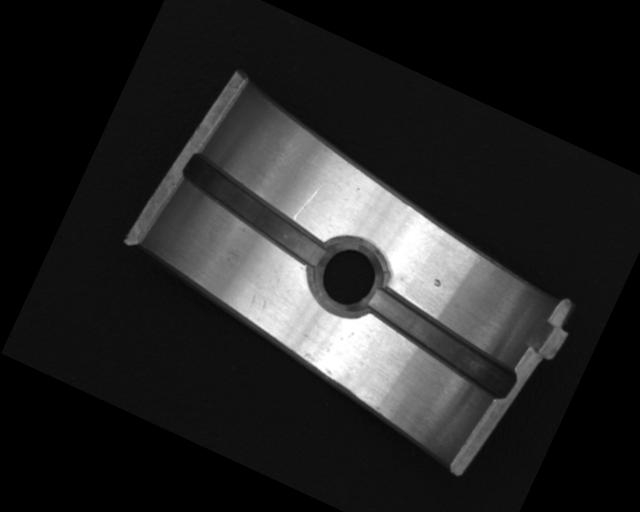bruise: (431, 277, 443, 288)
gap: (169, 151, 341, 271), (354, 285, 527, 401)
hole: (297, 224, 397, 327)
nick: (292, 181, 321, 225)
